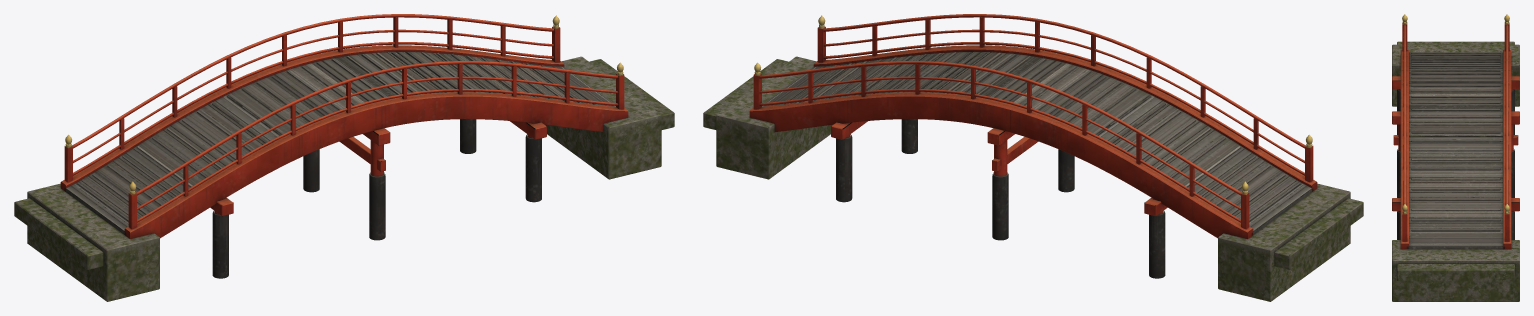
The model's file is shrine-bridge.glb.
3 renders of one model, left to right at view 1: azimuth 30°, elevation 25°; view 2: azimuth 150°, elevation 25°; view 3: azimuth 270°, elevation 25°, orthographic. The views are drawn at different scales.
Visible parts, largest first — view 1: lod0; view 2: lod0; view 3: lod0.
Boxes of the visible parts, <box> form: lod0: <box>14,14,674,301</box>; lod0: <box>703,14,1363,301</box>; lod0: <box>1392,14,1519,301</box>.
Size of what is drawn, in the model's own units: 16.5 by 4.42 by 3.9.
1 material, 1 textured.
